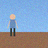person: (7, 14, 18, 36)
